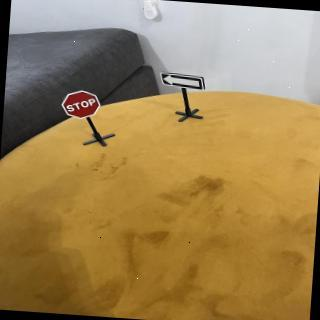sign_oneway_left: (158, 71, 208, 94)
sign_stop: (60, 89, 103, 122)
